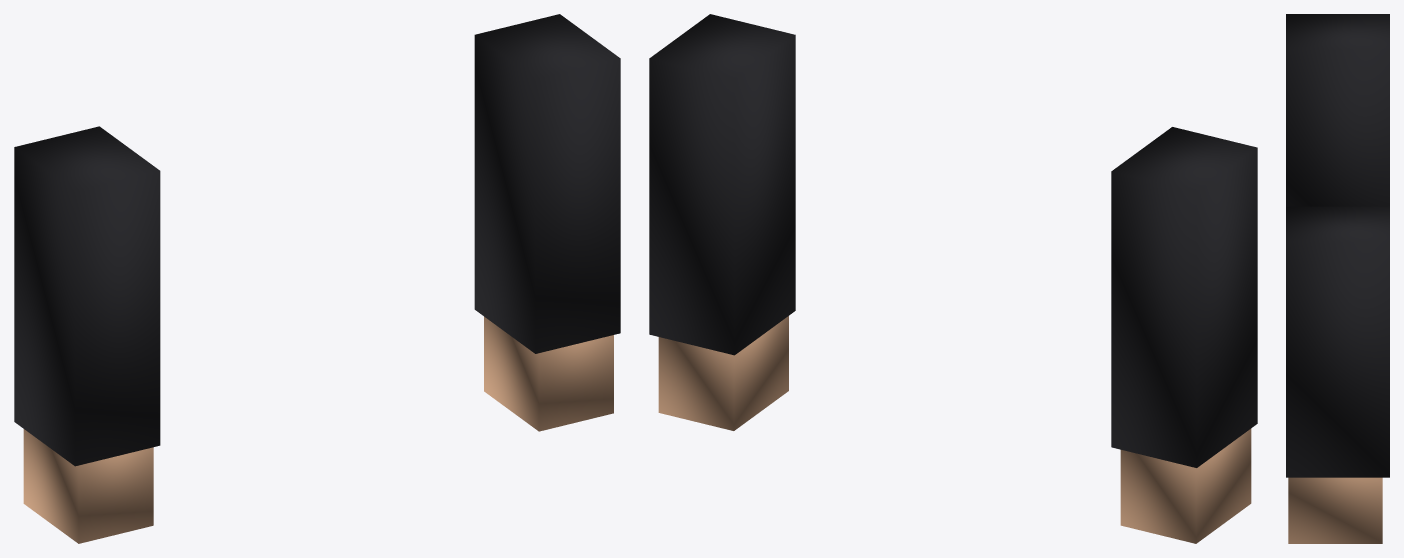
The model's file is skomma_hand_02.glb.
The picture shows the model from 3 angles, left to right: view 1: azimuth 30°, elevation 25°; view 2: azimuth 150°, elevation 25°; view 3: azimuth 270°, elevation 25°; orthographic projection. The views are drawn at different scales.
Visible parts, largest first — view 1: Left_Arm, Right_Arm, Left_Hand, Right_Hand; view 2: Right_Arm, Left_Arm, Left_Hand, Right_Hand; view 3: Right_Arm, Left_Arm, Right_Hand.
Part boxes in pixels (<box>): Left_Arm: <box>14,126,160,466</box>; Right_Arm: <box>474,14,620,353</box>; Left_Hand: <box>23,429,153,543</box>; Right_Hand: <box>484,316,613,431</box>; Right_Arm: <box>649,14,795,355</box>; Left_Arm: <box>1111,127,1257,467</box>; Left_Hand: <box>1120,428,1251,543</box>; Right_Hand: <box>658,316,788,430</box>; Right_Arm: <box>1286,206,1389,477</box>; Left_Arm: <box>1286,14,1389,206</box>; Right_Hand: <box>1288,477,1382,543</box>.
Bounding box in the file's own units: 2.18 × 1.35 × 0.42.
